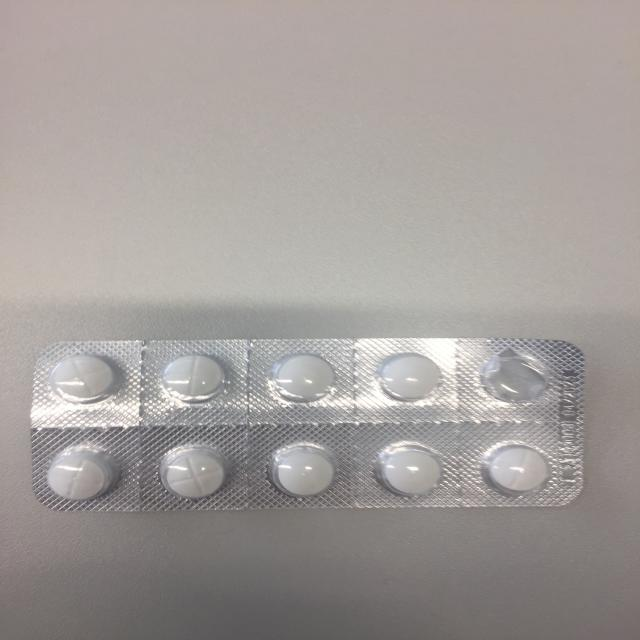Empty: (474, 343, 561, 407)
Pill: (39, 438, 128, 506), (365, 436, 455, 500), (477, 435, 560, 498), (150, 439, 233, 502), (265, 438, 344, 498), (44, 350, 126, 407), (263, 351, 344, 408), (370, 350, 448, 406), (158, 350, 228, 407)
